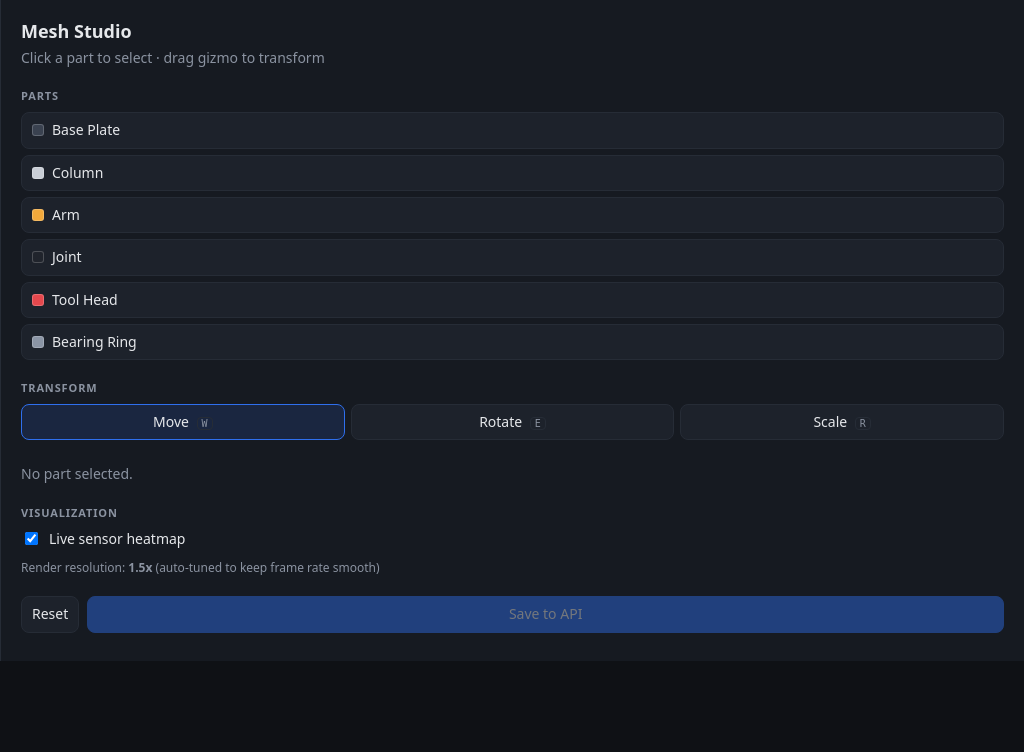
Test: <ControlPanel> › Reset restores defaults and deselects
Click the button "Arm".
click(38, 215)  # box [21,197,1004,233]
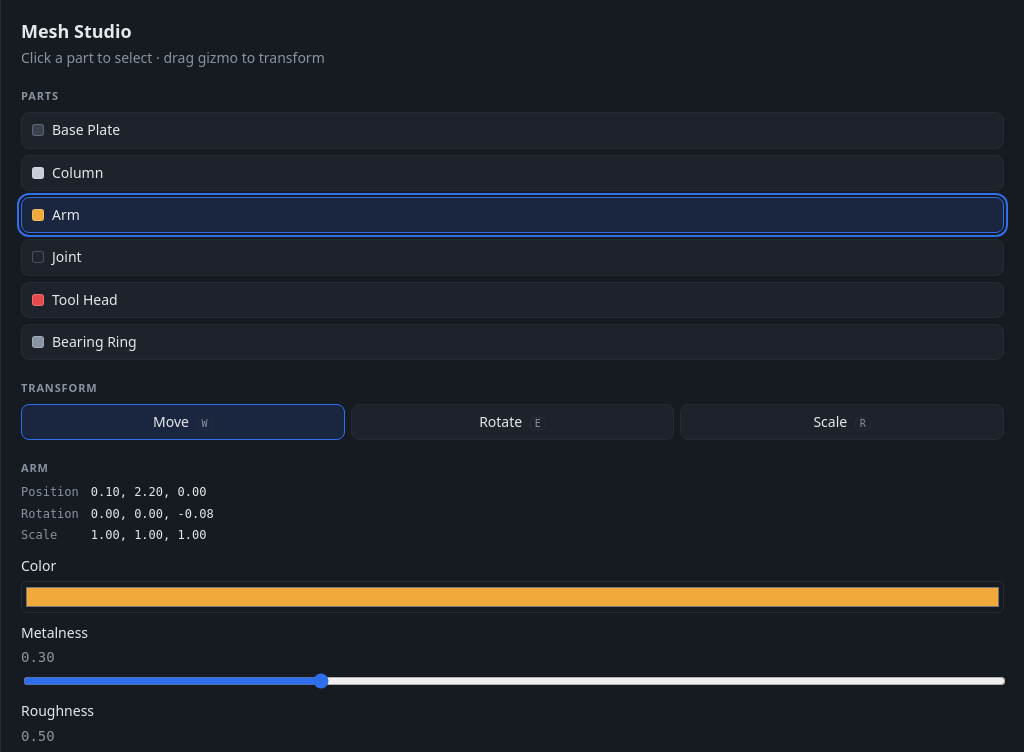
Set the slider labelled "Metalness 0.30" to "0.9" at (901, 681), box [23,673,1006,689]
(page scrolled)
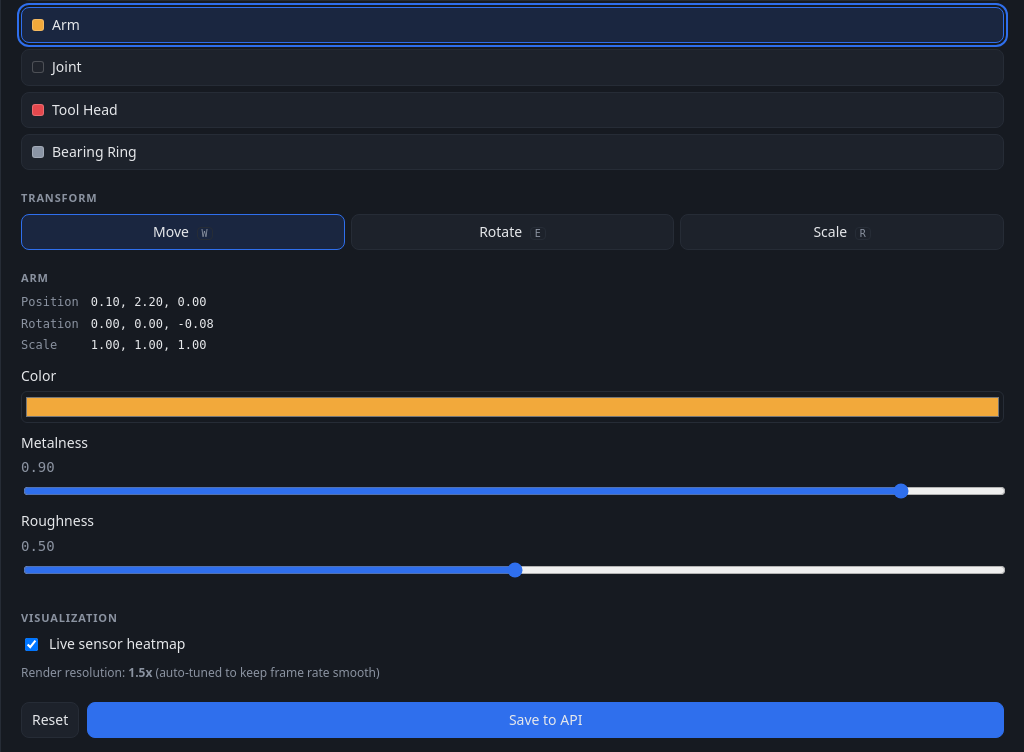
Click the button "Reset".
click(50, 720)  # box [21,702,79,738]
(page scrolled)
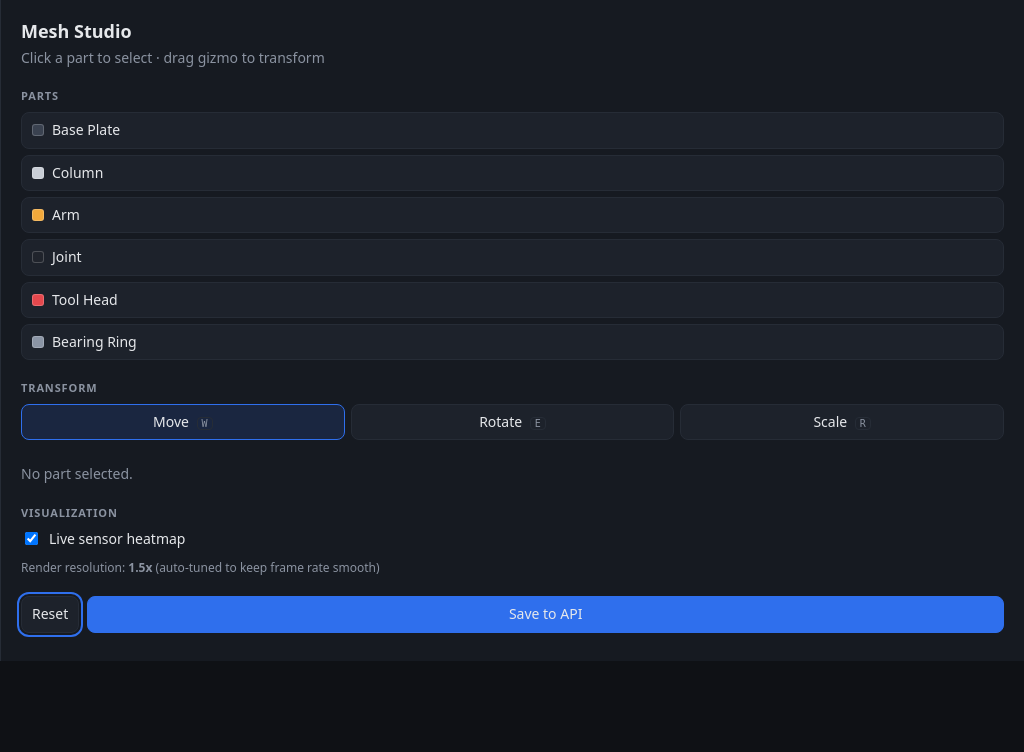
Expected: the text "No part selected." is shown, [21,464,133,483]
Click the button "Arm".
click(38, 215)  # box [21,197,1004,233]
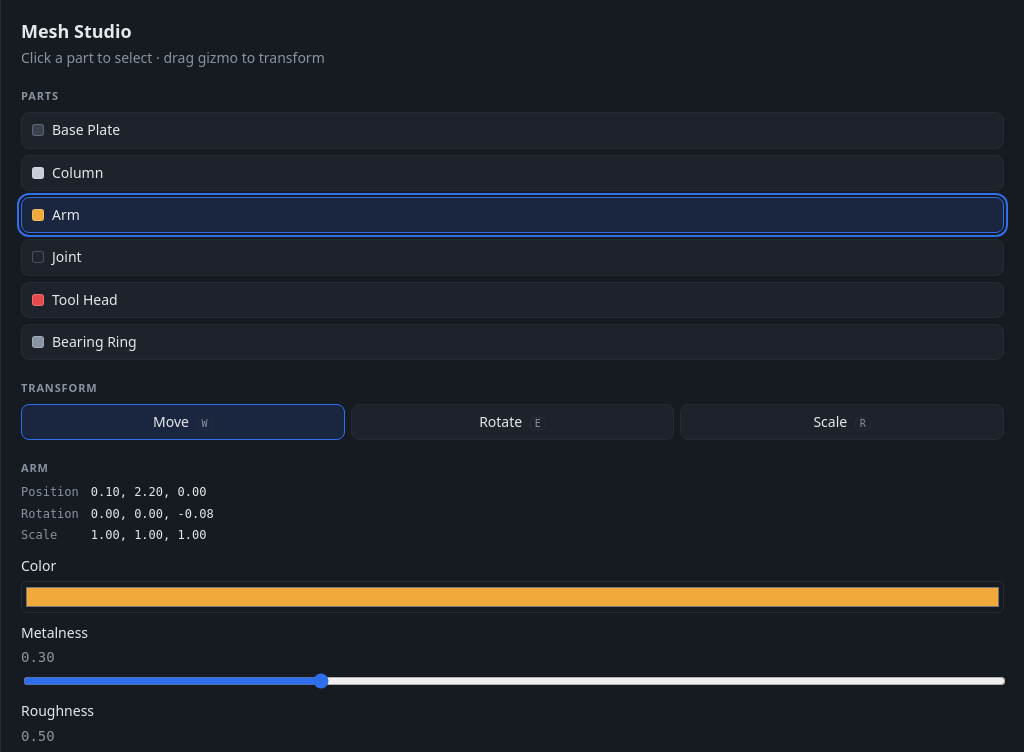
Expected: the text "0.30" is shown, [21,649,55,665]
